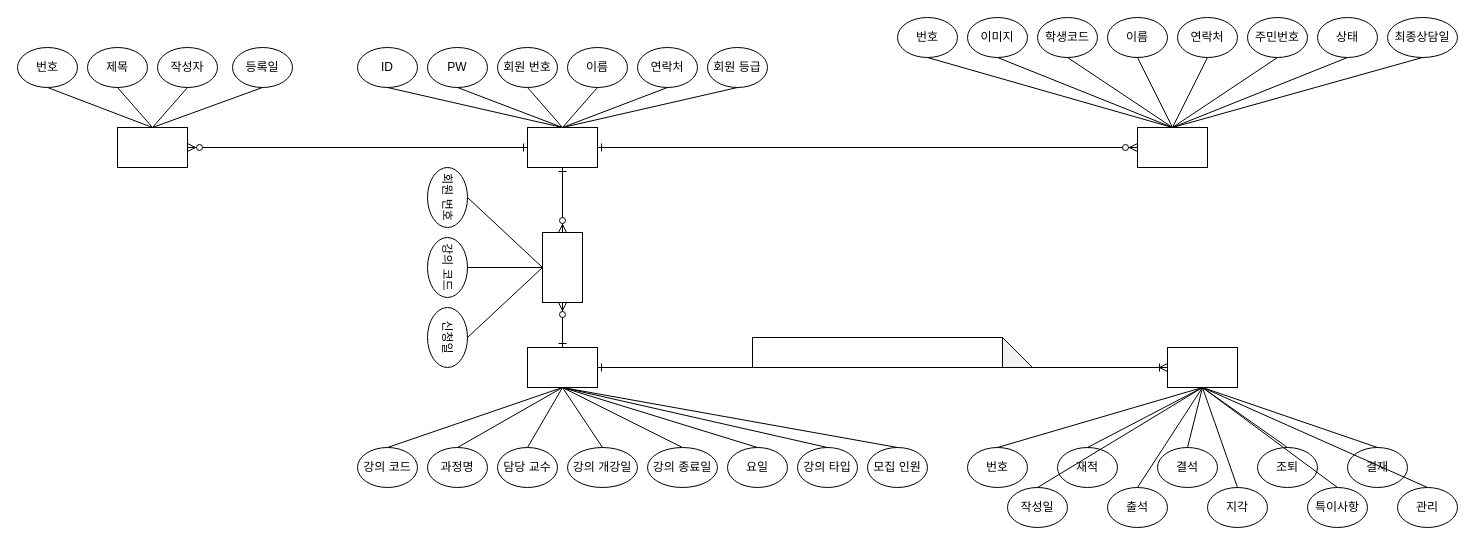
Image size: 1475x545. Some labels were removed from this diagram. Each missing label, with the box of its shape:
강의: (526, 346, 598, 388)
강의 신청: (542, 232, 582, 302)
강의에 대해 출석 정보를 저장할 수 있다: (752, 336, 1032, 368)
건의사항: (116, 126, 188, 168)
상담 일지: (1136, 126, 1208, 168)
회원: (526, 126, 598, 168)
훈련 일지: (1166, 346, 1238, 388)
